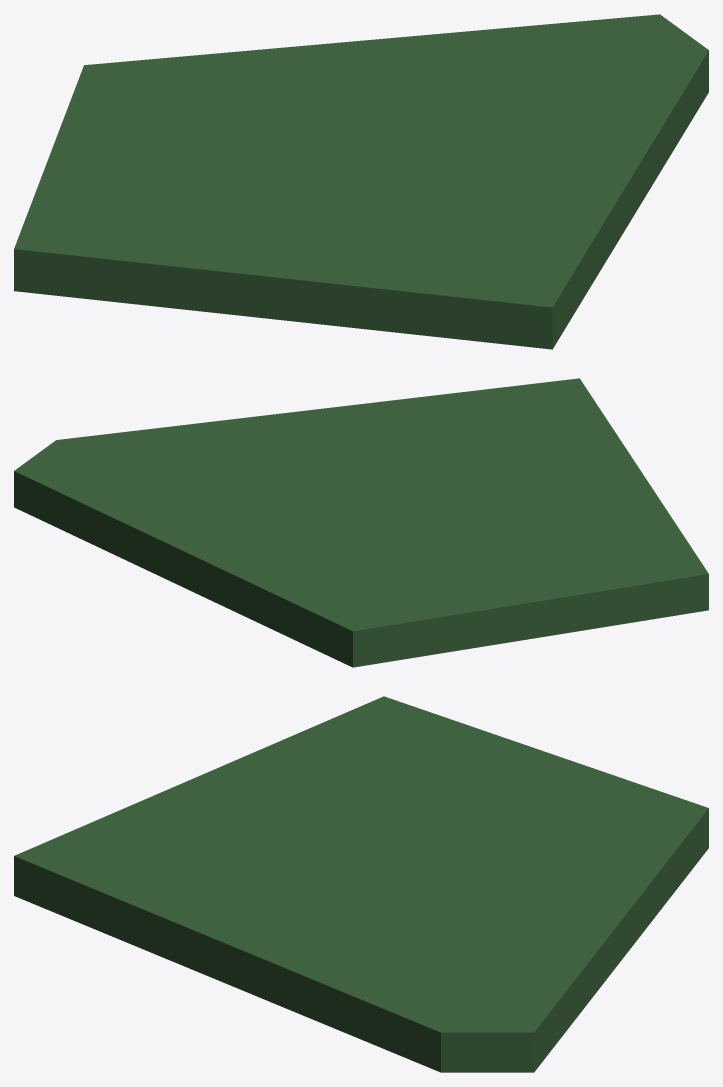
Rendered from x_proval_00_105_1_rmstrd.fbx.
The picture shows the model from 3 angles, top to bottom: view 1: azimuth 30°, elevation 25°; view 2: azimuth 150°, elevation 25°; view 3: azimuth 270°, elevation 25°; orthographic projection. The views are drawn at different scales.
Parts seen in each view (by area): view 1: x_proval_00_105_1_rmstrd1; view 2: x_proval_00_105_1_rmstrd1; view 3: x_proval_00_105_1_rmstrd1.
Boxes of the visible parts, <box> form: x_proval_00_105_1_rmstrd1: <box>14,14,708,349</box>; x_proval_00_105_1_rmstrd1: <box>14,378,708,667</box>; x_proval_00_105_1_rmstrd1: <box>14,696,708,1072</box>.
Size of the model in its own units: 3.61 by 0.2 by 3.15.
